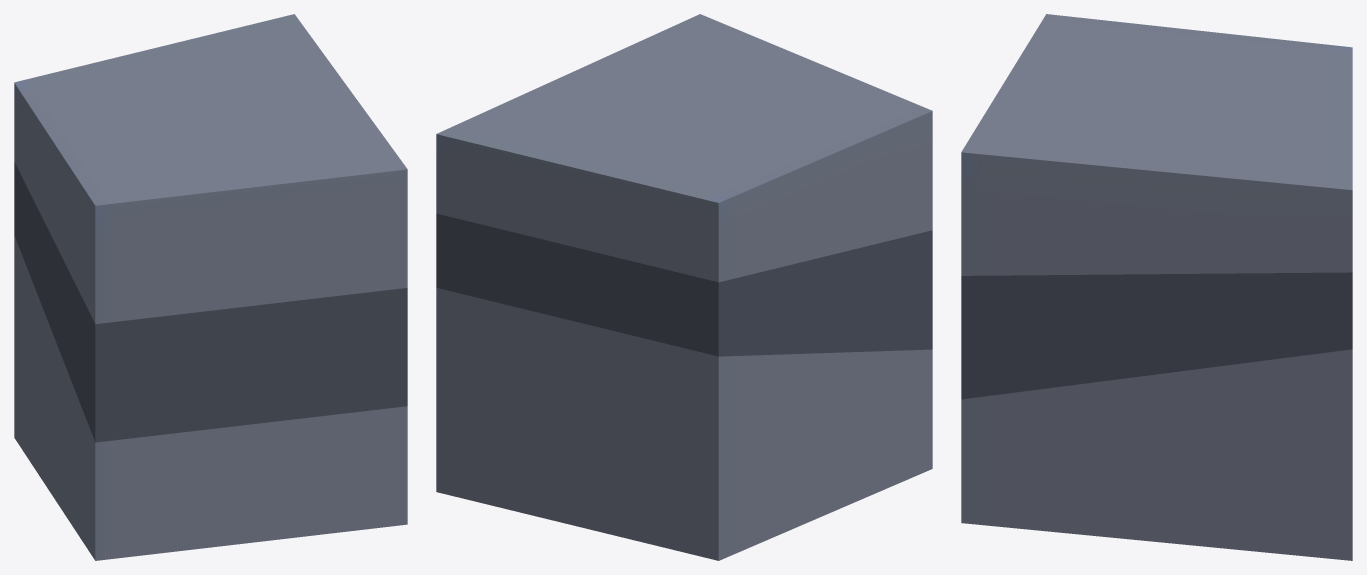
Rendered from stone.FBX.
The picture shows the model from 3 angles, left to right: view 1: azimuth 30°, elevation 25°; view 2: azimuth 150°, elevation 25°; view 3: azimuth 270°, elevation 25°; orthographic projection. The views are drawn at different scales.
Parts seen in each view (by area): view 1: stone; view 2: stone; view 3: stone.
Boxes of the visible parts, x1=… form: stone: x1=14, y1=14, x2=407, y2=560; stone: x1=436, y1=14, x2=932, y2=560; stone: x1=961, y1=14, x2=1352, y2=560.
Bounding box in the file's own units: 28.94 × 27.18 × 28.39.
